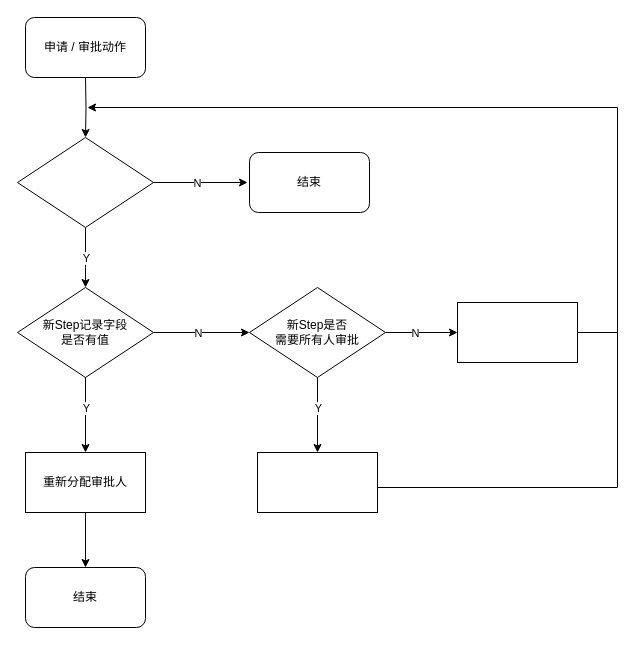
This 643x645 diagram has some shape labels left out. Each missing label, with the box of its shape:
审批单个: (456, 302, 578, 362)
审批所有: (256, 452, 378, 512)
是否进入 新的批准步骤: (16, 136, 154, 228)
